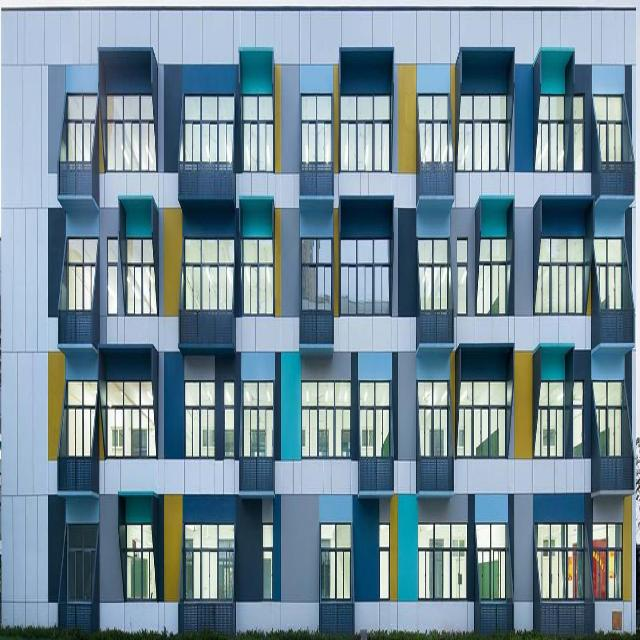railing: (181, 161, 233, 197), (182, 312, 234, 344), (182, 604, 234, 630), (543, 599, 587, 629), (61, 162, 94, 198), (422, 312, 455, 345), (364, 460, 397, 493), (422, 165, 455, 197), (604, 309, 636, 342), (421, 459, 454, 491), (603, 455, 635, 488), (242, 459, 275, 491), (606, 163, 638, 195), (62, 310, 94, 342), (60, 459, 92, 491), (303, 167, 336, 197), (303, 313, 336, 343), (483, 603, 515, 631), (323, 602, 355, 630)
window: (340, 236, 391, 315), (301, 380, 351, 459), (417, 522, 468, 598), (533, 522, 584, 598), (340, 95, 390, 172), (185, 522, 235, 599), (457, 94, 507, 170), (106, 379, 156, 455), (184, 235, 235, 309), (107, 93, 156, 170), (535, 237, 584, 314), (457, 380, 506, 454), (184, 93, 234, 161), (300, 234, 332, 311), (242, 237, 273, 315), (535, 93, 565, 172), (185, 380, 215, 459), (66, 379, 97, 455), (126, 523, 157, 599), (243, 378, 273, 456), (321, 522, 351, 600), (243, 94, 273, 171), (68, 522, 98, 599), (593, 378, 623, 455), (127, 237, 157, 313), (418, 380, 448, 456), (476, 522, 506, 598), (360, 380, 390, 455), (535, 380, 565, 455), (592, 523, 622, 598), (477, 238, 506, 315), (68, 236, 98, 310), (67, 92, 98, 161), (418, 239, 448, 310), (302, 92, 332, 162), (594, 237, 623, 309), (418, 93, 448, 161), (593, 94, 622, 161), (107, 236, 118, 315), (379, 522, 390, 601), (573, 94, 584, 171), (224, 381, 235, 457), (573, 381, 583, 460), (263, 524, 273, 598)
